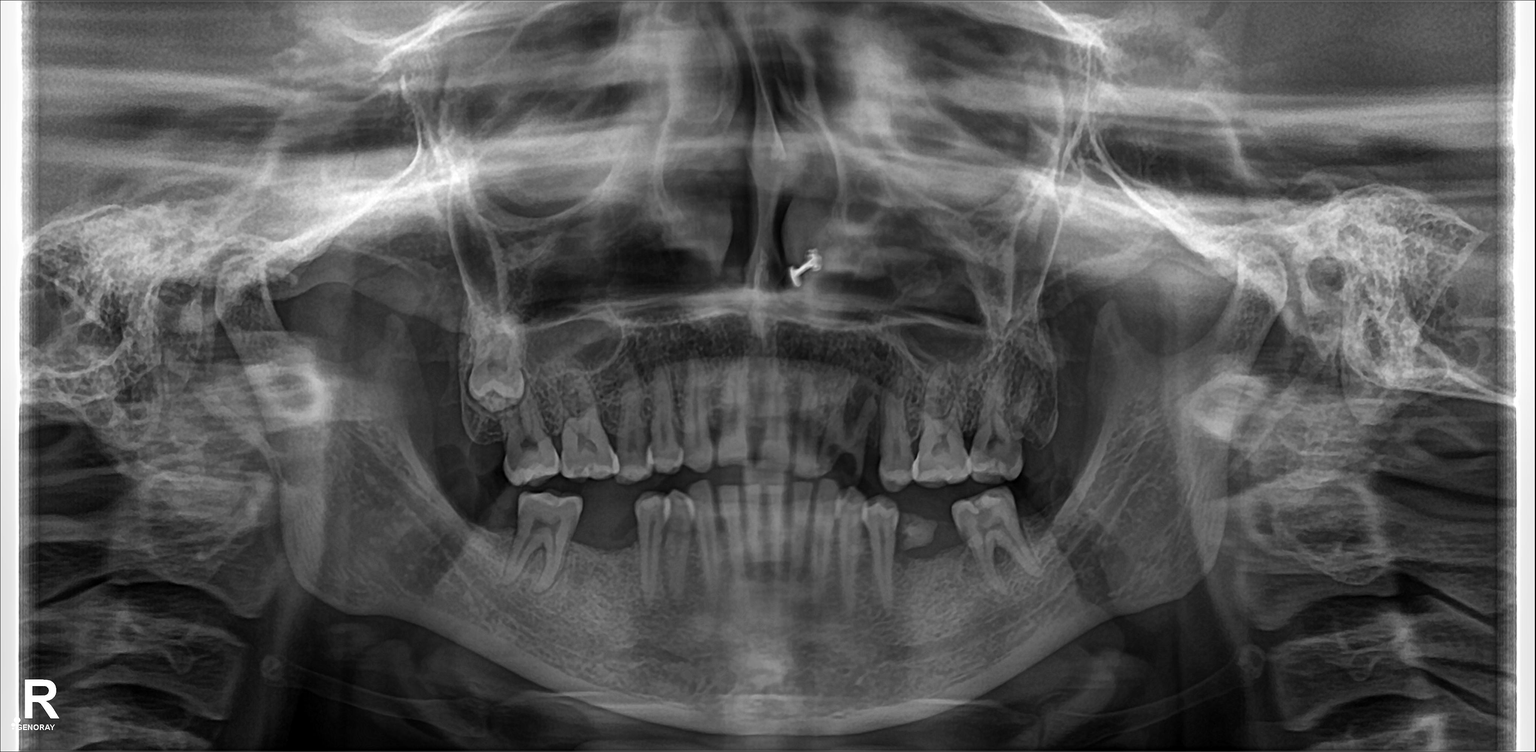Missing Tooth: (581, 504, 638, 608), (1026, 465, 1070, 587), (413, 333, 457, 431), (480, 486, 514, 588), (447, 486, 474, 585), (1035, 367, 1059, 453)
Retained Root: (829, 376, 878, 483), (896, 501, 946, 576)
